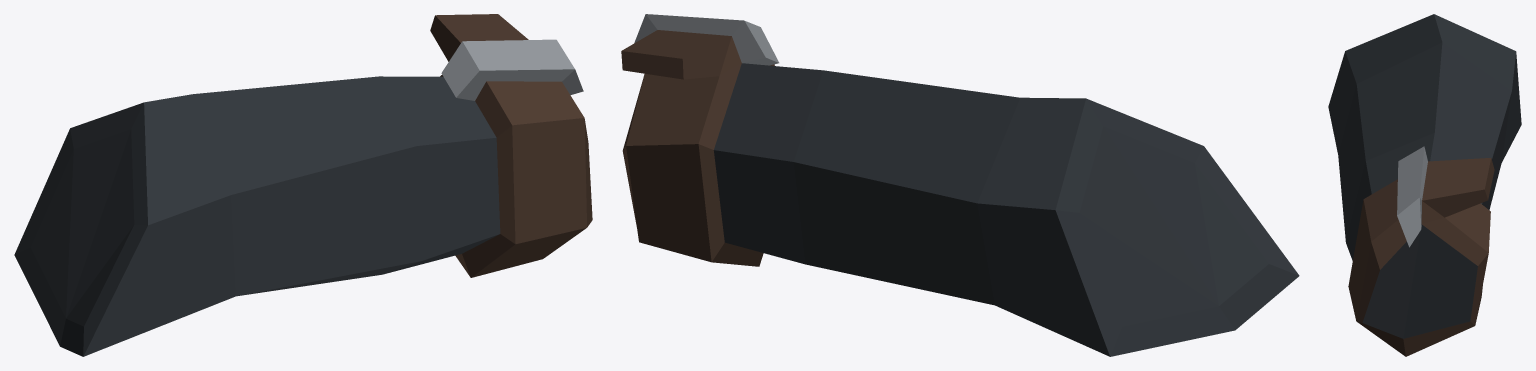
Rendered from Chr_ArmUpperLeft_Female_10_Static.fbx.
3 views of the same model, side by side, from view 1: azimuth 30°, elevation 25°; view 2: azimuth 150°, elevation 25°; view 3: azimuth 270°, elevation 25° (orthographic). The views are drawn at different scales.
Parts seen in each view (by area): view 1: Chr_ArmUpperLeft_Female_10_Static; view 2: Chr_ArmUpperLeft_Female_10_Static; view 3: Chr_ArmUpperLeft_Female_10_Static.
Boxes of the visible parts, x1=… form: Chr_ArmUpperLeft_Female_10_Static: x1=14, y1=14, x2=592, y2=356; Chr_ArmUpperLeft_Female_10_Static: x1=621, y1=14, x2=1299, y2=356; Chr_ArmUpperLeft_Female_10_Static: x1=1328, y1=14, x2=1521, y2=356.
Size of the model in its own units: 0.3623 by 0.1503 by 0.136.
